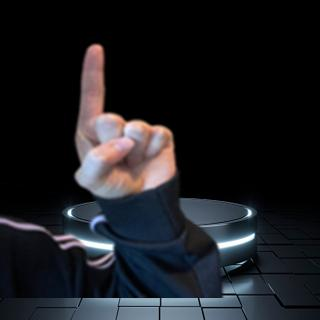IRRITATED: (69, 40, 178, 202)
